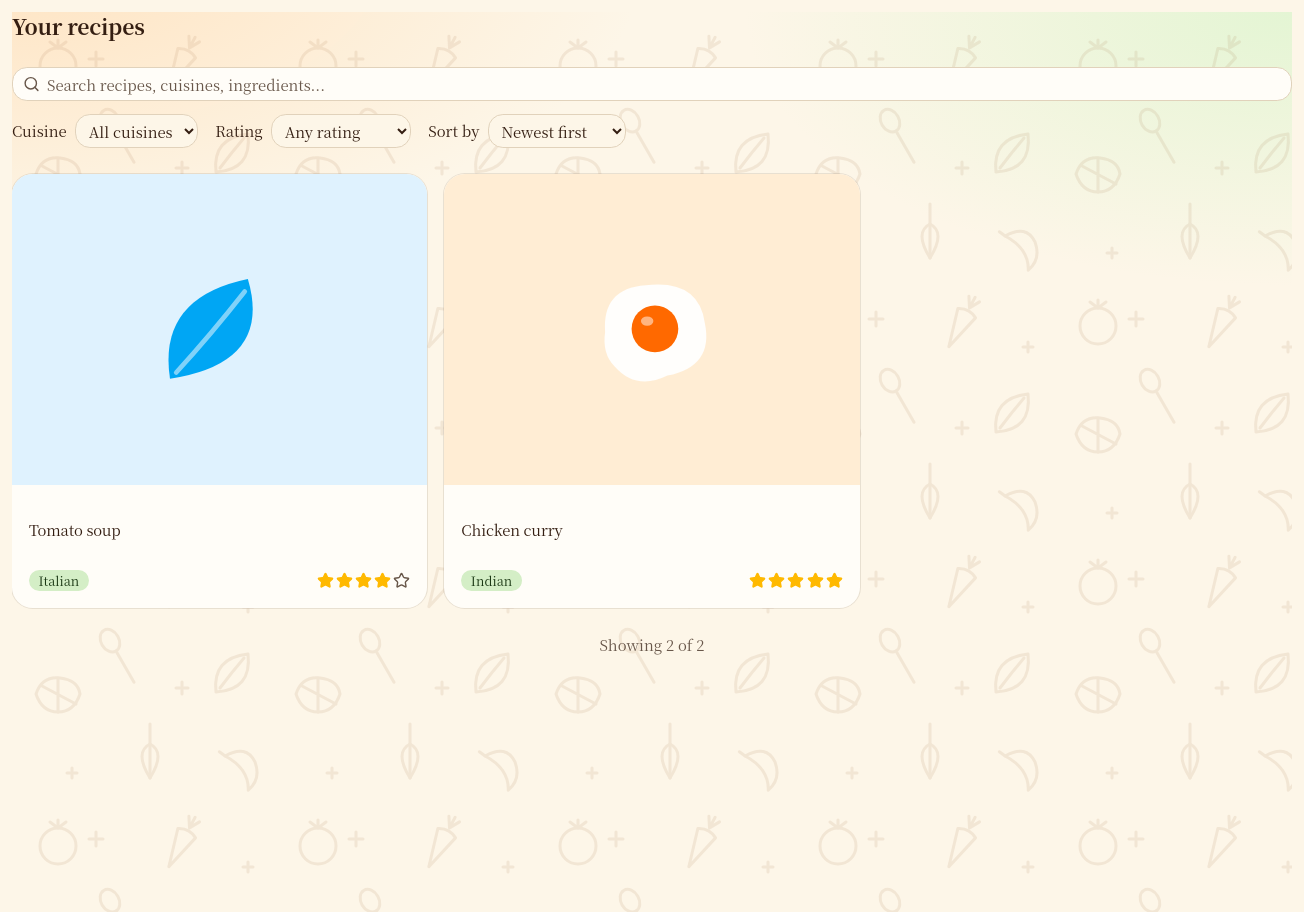
Test: searching › searches after a short pause and keeps the words in the URL
Expected: the heading "Chicken curry" is shown, [461,519,563,540]
Type "tomato" into the search field labelled "Search recipes".
click(652, 84); type("tomato")  # box [12,67,1292,101]
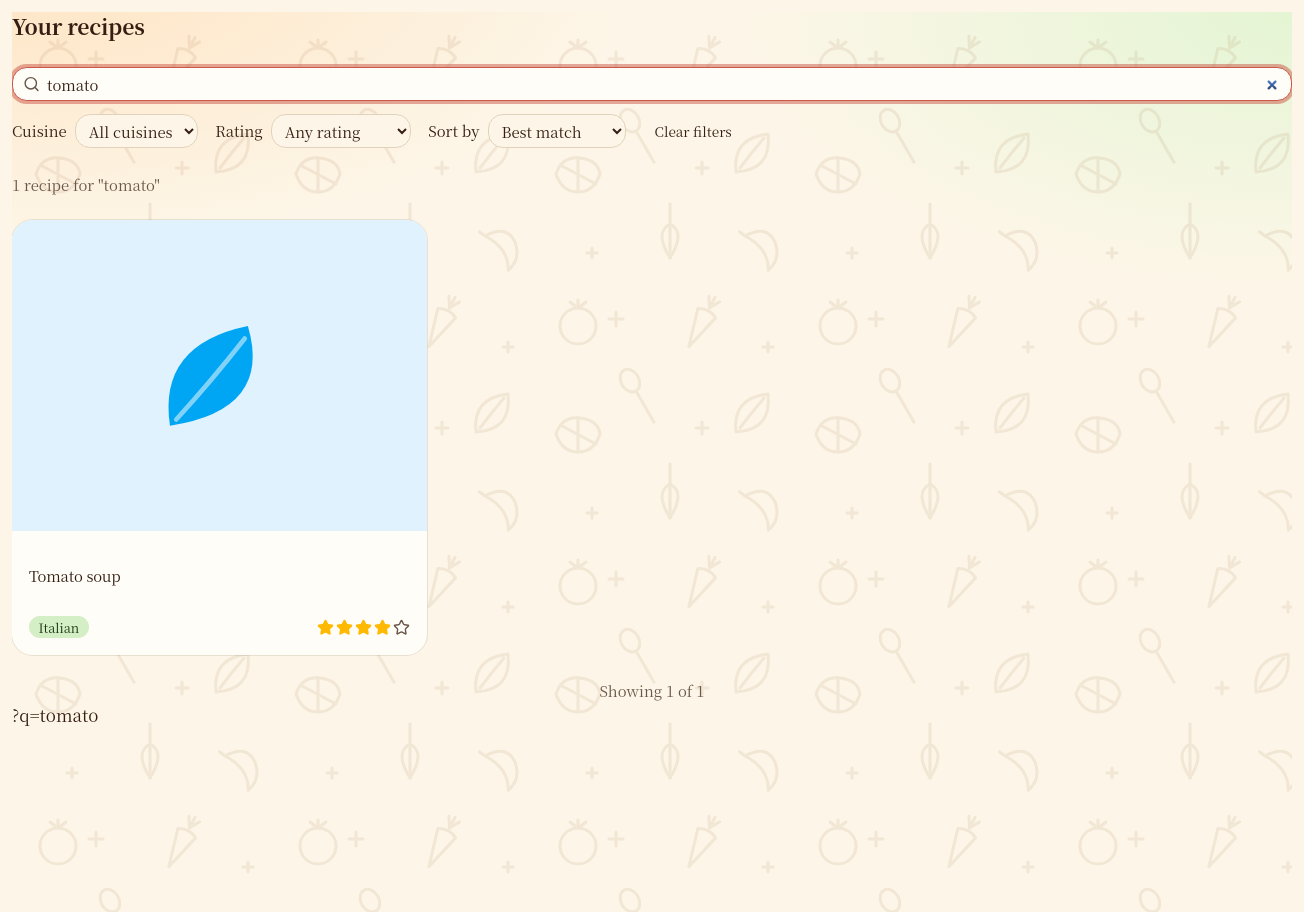
Expected: the text "1 recipe for \"tomato\"" is shown, [12,174,160,194]
Expected: the link "Chicken curry" is gone
Expected: the text with test id "search" reads "?q=tomato", [12,702,98,727]
